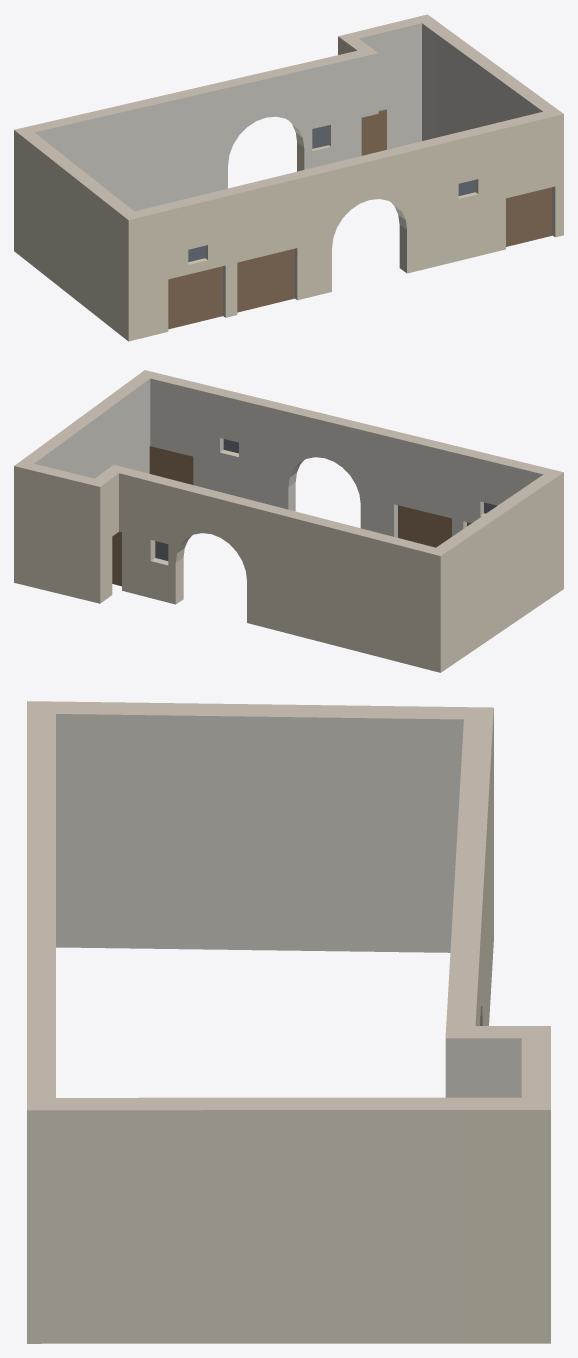
3 views of the same model, one above another, from view 1: azimuth 30°, elevation 25°; view 2: azimuth 150°, elevation 25°; view 3: azimuth 270°, elevation 25° (orthographic). The views are drawn at different scales.
Visible parts, largest first — view 1: CP_431_Masonry, CP_431_Fill_main_G2, CP_431_Fill_main_G1, CP_431_Fill_main_G3, CP_431_Fill_yard_west_RD1; view 2: CP_431_Masonry, CP_431_Fill_main_G2, CP_431_Fill_main_G3, CP_431_Fill_yard_west_RD1; view 3: CP_431_Masonry.
Boxes of the visible parts, bbox=[...] form: CP_431_Masonry: bbox=[14, 14, 563, 341]; CP_431_Fill_main_G2: bbox=[237, 248, 294, 312]; CP_431_Fill_main_G1: bbox=[168, 266, 222, 329]; CP_431_Fill_main_G3: bbox=[506, 187, 552, 246]; CP_431_Fill_yard_west_RD1: bbox=[361, 109, 386, 155]; CP_431_Masonry: bbox=[14, 370, 563, 672]; CP_431_Fill_main_G2: bbox=[398, 505, 451, 547]; CP_431_Fill_main_G3: bbox=[149, 446, 193, 484]; CP_431_Fill_yard_west_RD1: bbox=[112, 531, 121, 586]; CP_431_Masonry: bbox=[27, 701, 550, 1343].
Bounding box in the file's own units: 16.53 × 4.41 × 8.95.
